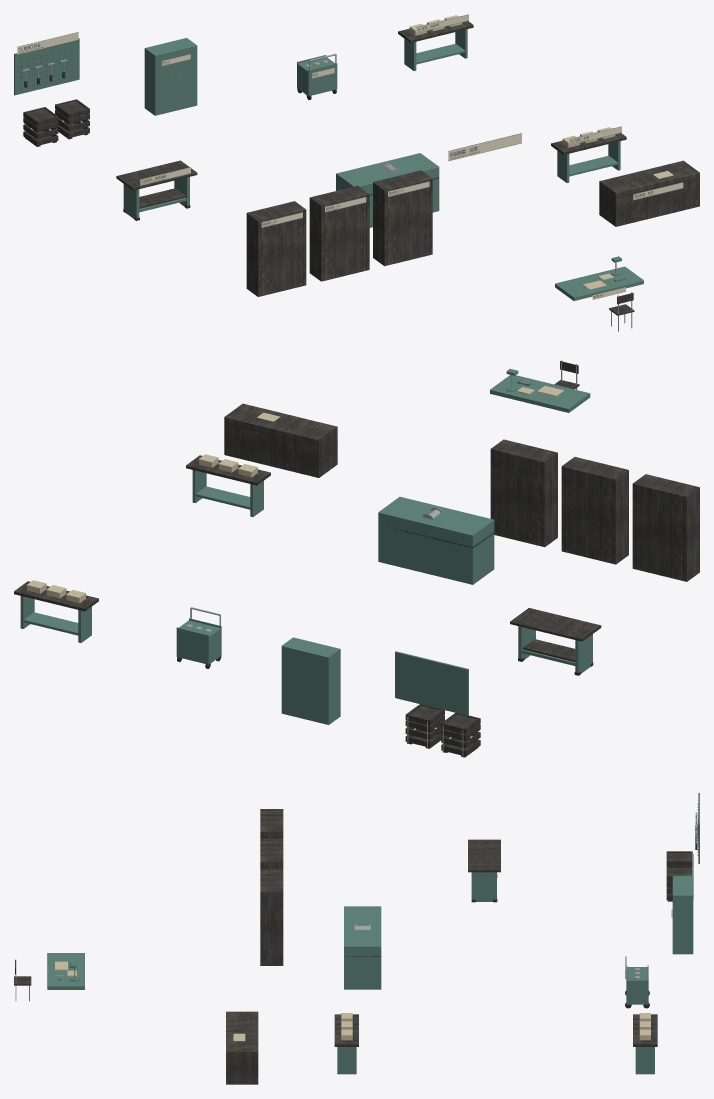
File: workshop-fittings.glb
3 views of the same model, one above another, from view 1: azimuth 30°, elevation 25°; view 2: azimuth 150°, elevation 25°; view 3: azimuth 270°, elevation 25° (orthographic). The views are drawn at different scales.
Parts seen in each view (by area): view 1: authored-far-0, authored-far-1, authored-core-1, authored-core-0, authored-core-5, authored-core-4; view 2: authored-far-0, authored-far-1, authored-core-1, authored-core-0, authored-core-4; view 3: authored-far-1, authored-far-0, authored-core-0, authored-core-1, authored-core-4.
Part boxes in pixels (x1=…): authored-far-0: x1=116, y1=160, x2=699, y2=296; authored-far-1: x1=123, y1=38, x2=643, y2=300; authored-core-1: x1=14, y1=29, x2=621, y2=275; authored-core-0: x1=23, y1=16, x2=699, y2=315; authored-core-5: x1=17, y1=14, x2=683, y2=299; authored-core-4: x1=409, y1=15, x2=673, y2=289; authored-far-0: x1=224, y1=403, x2=699, y2=641; authored-far-1: x1=176, y1=375, x2=592, y2=724; authored-core-1: x1=20, y1=369, x2=592, y2=721; authored-core-0: x1=14, y1=361, x2=601, y2=757; authored-core-4: x1=27, y1=386, x2=564, y2=603; authored-far-1: x1=47, y1=872, x2=693, y2=1004; authored-far-0: x1=226, y1=809, x2=500, y2=1084; authored-core-0: x1=14, y1=839, x2=692, y2=1057; authored-core-1: x1=70, y1=793, x2=699, y2=1074; authored-core-4: x1=55, y1=961, x2=650, y2=1041.
Size of the model in its own units: 12.62 by 2.47 by 17.35.
6 materials, 2 textured.
